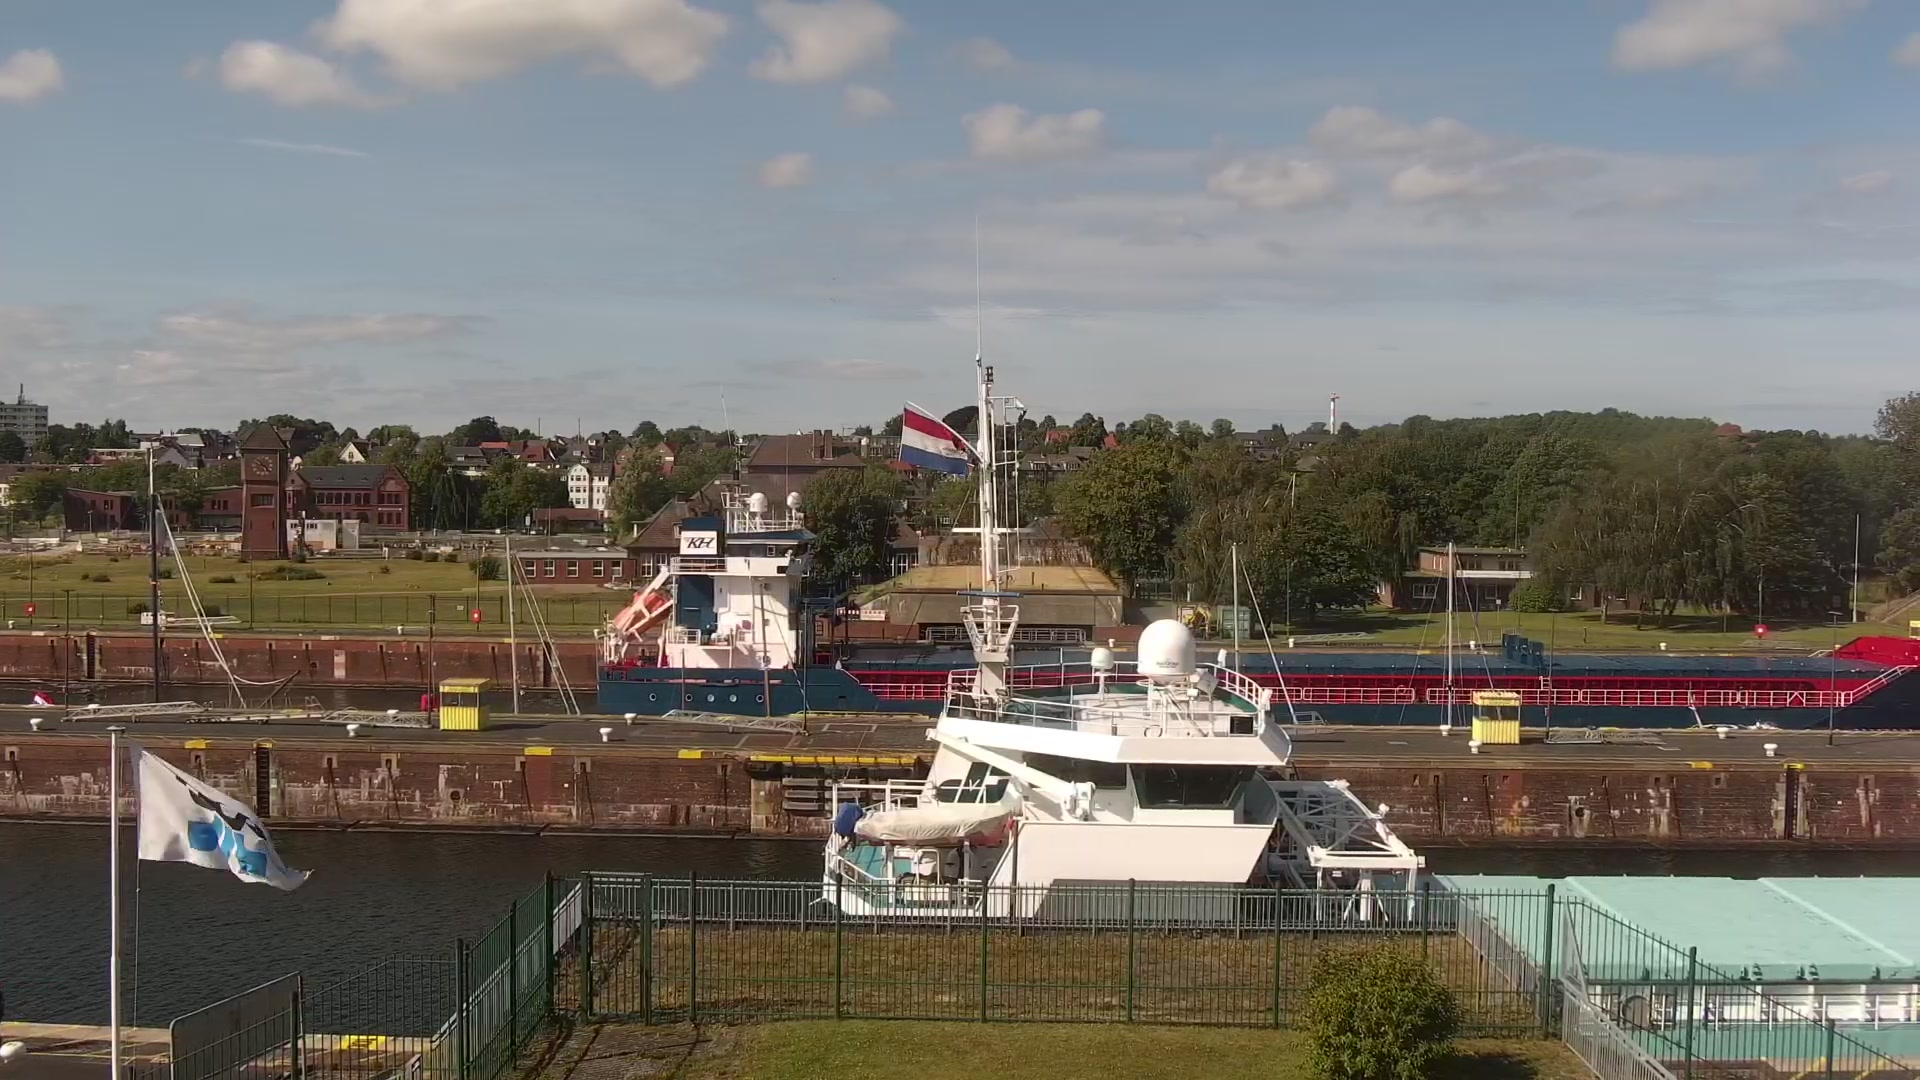land: (1178, 601, 1211, 636)
sea: (818, 210, 1919, 1056), (592, 390, 1920, 731)
